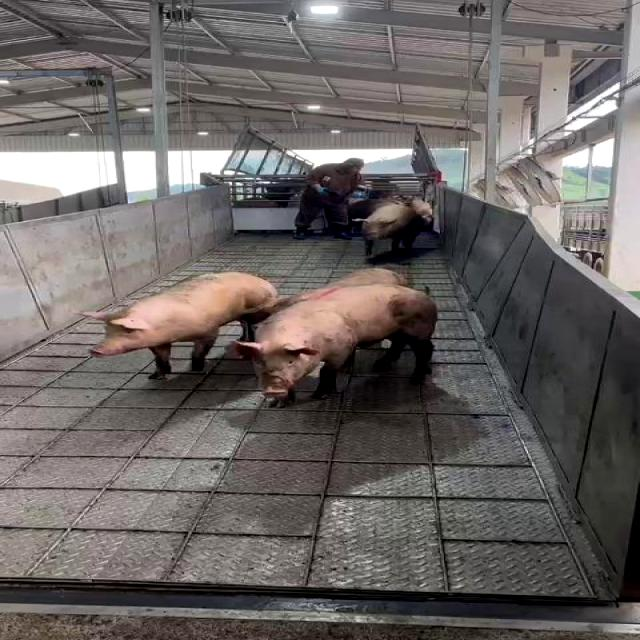pig: (234, 284, 438, 406), (80, 274, 277, 378), (275, 268, 410, 311), (348, 199, 433, 257)
